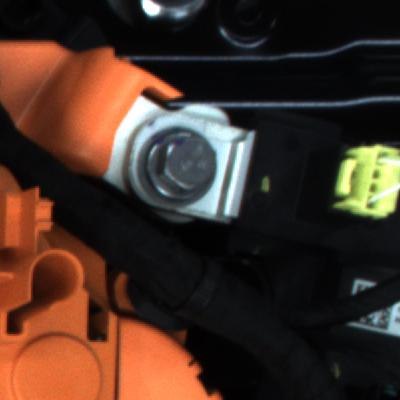nut_b: (129, 113, 222, 213)
